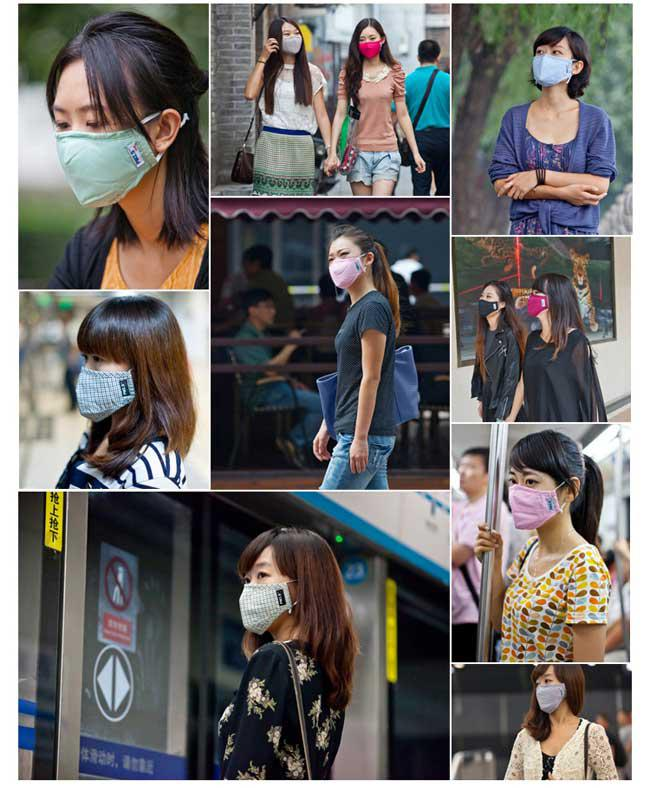NONE: (262, 296, 278, 326)
OK: (46, 91, 146, 200), (240, 560, 298, 632), (76, 345, 133, 418), (509, 468, 553, 528), (530, 38, 575, 83), (329, 246, 363, 284), (536, 674, 568, 713), (460, 452, 488, 492), (279, 28, 306, 57), (528, 287, 552, 317), (479, 290, 501, 319), (360, 32, 383, 59)
